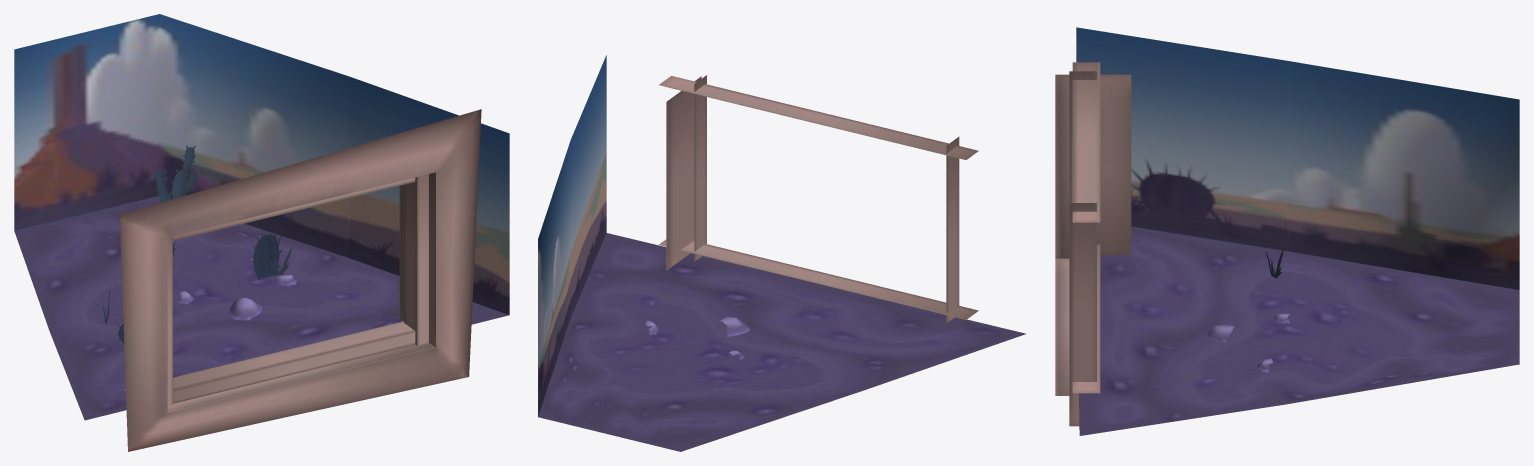
File: westernView.glb
3 renders of one model, left to right at view 1: azimuth 30°, elevation 25°; view 2: azimuth 150°, elevation 25°; view 3: azimuth 270°, elevation 25°, orthographic. The views are drawn at different scales.
Parts seen in each view (by area): view 1: WesternBgBox, WindowFrame, windowBar2, windowBar3, windowBar, WesternCactus5__billboard, WesternCactus1__billboard, windowBar1, WesternRocks; view 2: WesternBgBox, WindowFrame, windowBar, windowBar2, windowBar1, windowBar3, WesternRocks; view 3: WesternBgBox, WindowFrame, windowBar3, windowBar, windowBar2, windowBar1, WesternRocks.
Part boxes in pixels (x1,y1,x2,y2): WesternBgBox: (14,14,509,420); WindowFrame: (119,109,481,451); windowBar2: (124,321,415,403); windowBar3: (404,174,428,345); windowBar: (173,177,415,240); WesternCactus5__billboard: (153,145,199,203); WesternCactus1__billboard: (252,222,282,279); windowBar1: (167,236,172,406); WesternRocks: (177,274,296,320); WesternBgBox: (538,55,1026,451); WindowFrame: (666,76,745,270); windowBar: (658,76,978,159); windowBar2: (659,239,978,319); windowBar1: (946,136,959,323); windowBar3: (694,75,706,261); WesternRocks: (639,317,749,359); WesternBgBox: (1076,27,1519,435); WindowFrame: (1055,74,1131,395); windowBar3: (1069,203,1096,426); windowBar: (1072,62,1100,222); windowBar2: (1072,244,1100,393); windowBar1: (1069,71,1096,202); WesternRocks: (1205,313,1290,372).
Size of the model in its own units: 12.72 by 7.55 by 11.44.
5 materials, 5 textured.
